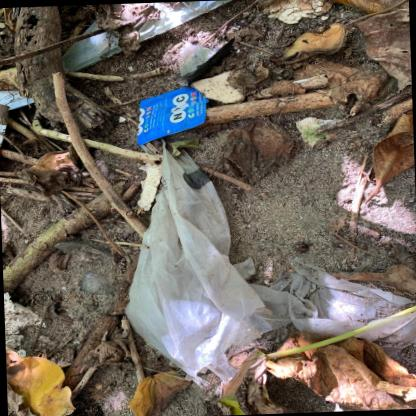Glass: (53, 239, 116, 294)
Plastic: (124, 136, 416, 387), (136, 86, 207, 145), (176, 38, 233, 85), (0, 89, 34, 108), (0, 104, 8, 145)
Waste: (259, 0, 331, 22), (136, 161, 162, 210)
